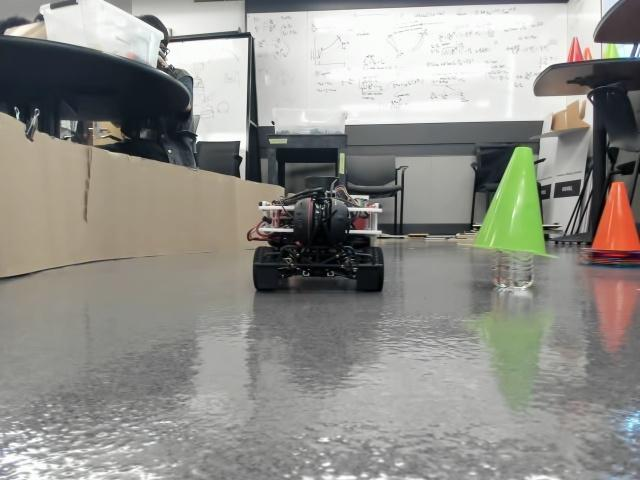Car: (245, 171, 384, 293)
